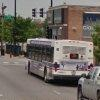Bus: (25, 35, 86, 82)
